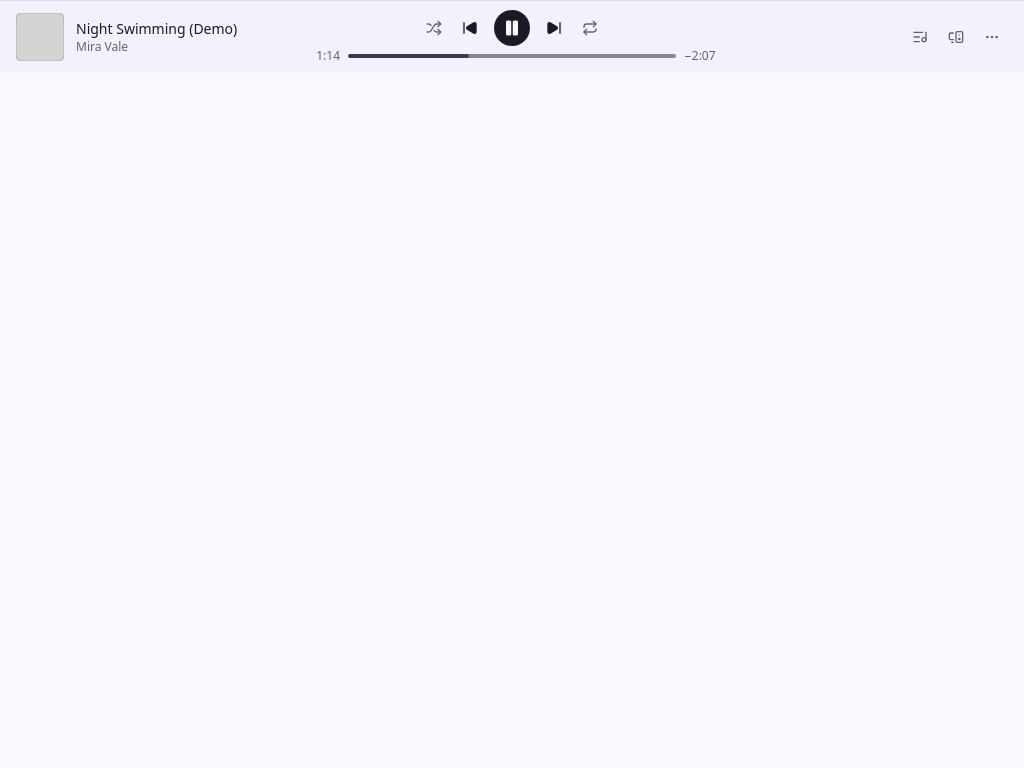
Scenario: PlayerBar on a phone on its side › keeps one row, with the lyrics and the heart behind More so the title keeps some room
Later steps or results of the test are not shown.
Click the button named "More player controls" at [992, 36], box [976,20,1008,52]
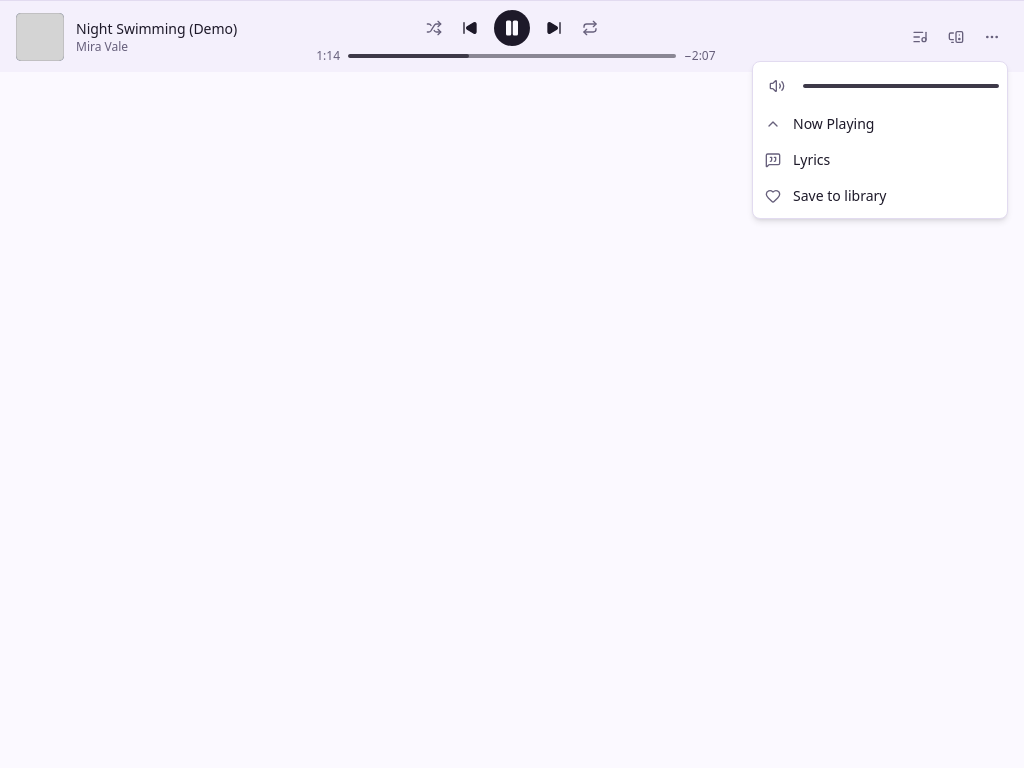
Expected: the button "Lyrics" is shown, [757,142,1003,178]
